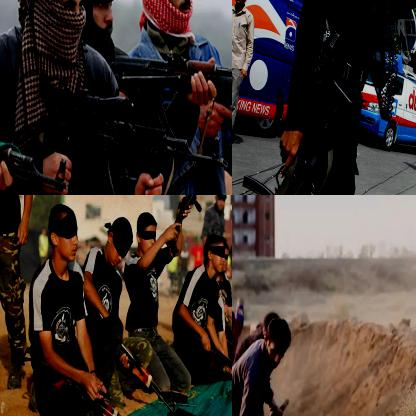rifle: (35, 86, 228, 194), (240, 79, 355, 194), (107, 56, 231, 140), (22, 347, 146, 415), (0, 117, 69, 194), (117, 343, 174, 415), (164, 195, 212, 257), (195, 337, 231, 391)
